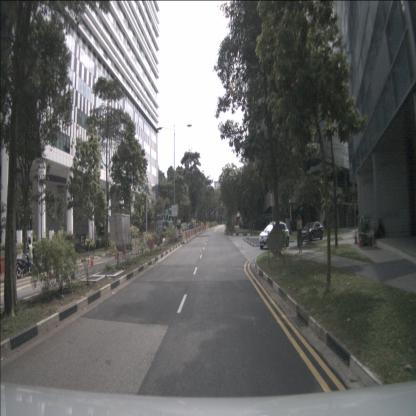human-pedestrian-adult: (26, 237, 35, 271), (297, 214, 302, 254)
movable_object-barrier: (0, 256, 14, 283), (181, 232, 187, 244), (184, 231, 188, 242), (188, 230, 191, 240), (191, 229, 194, 239), (192, 228, 195, 238), (187, 230, 189, 241), (190, 230, 192, 240), (193, 228, 195, 238), (194, 228, 196, 237)
movable_object-trafficcone: (358, 232, 364, 248), (89, 251, 94, 268), (367, 230, 372, 247), (114, 247, 117, 259), (354, 232, 357, 244), (124, 246, 127, 255)
vehicle-car: (258, 222, 290, 250), (300, 221, 324, 242)
vehicle-motorcycle: (14, 247, 35, 279)
vehicle-truck: (109, 213, 133, 255)
